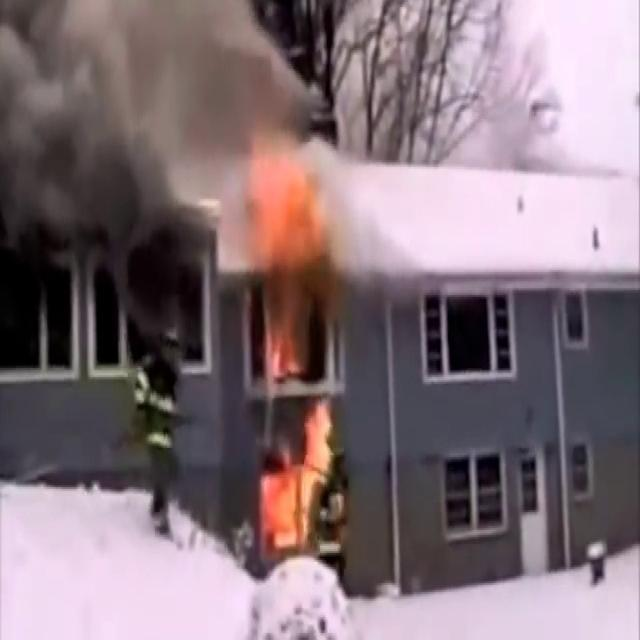Fire: (255, 380, 342, 570), (234, 126, 333, 288)
Smoke: (0, 0, 321, 254)
